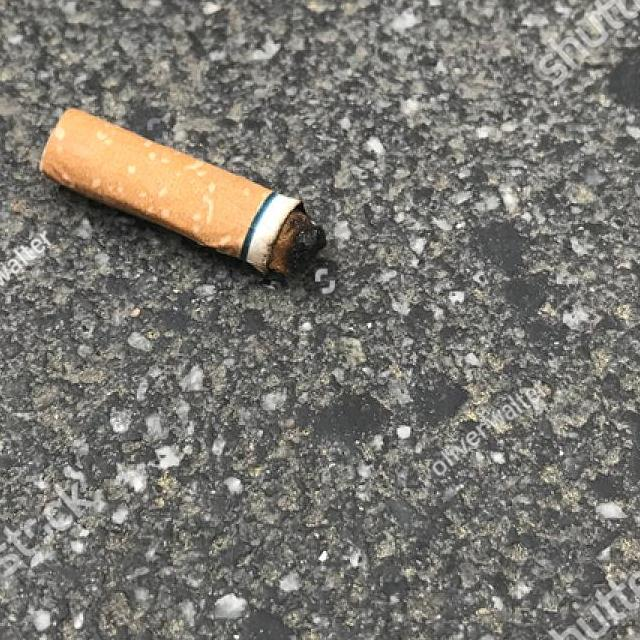Cigarette Butt: (35, 104, 328, 282)
